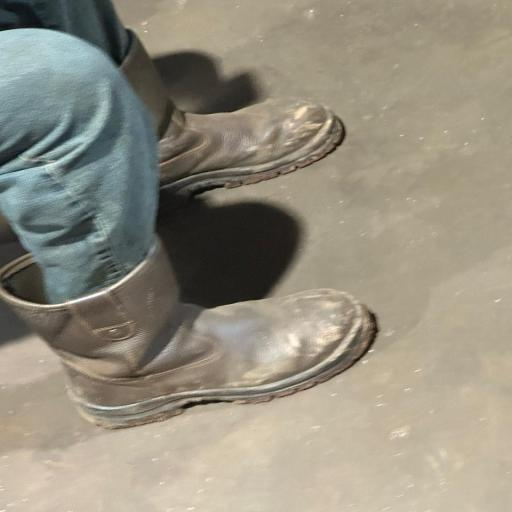safety_shoe: (4, 249, 402, 428), (88, 48, 362, 190)
